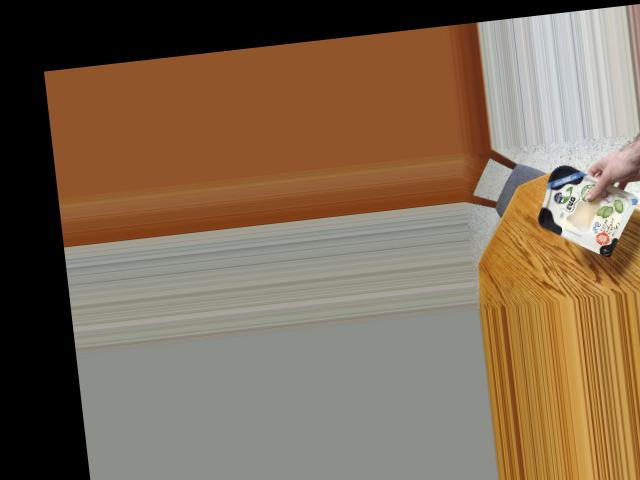cheese: (525, 159, 630, 257)
